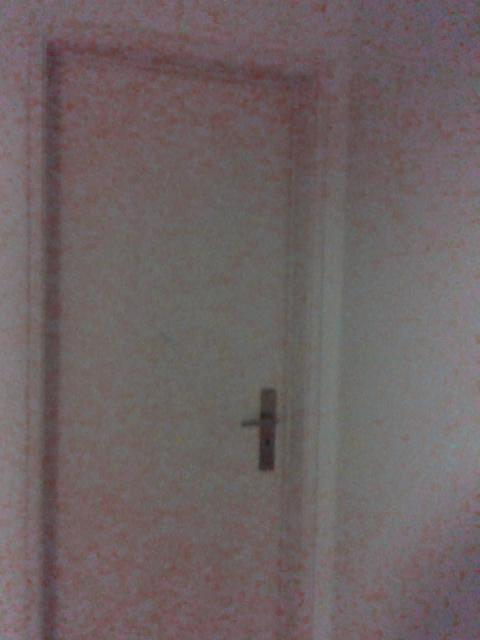closed_door: (19, 31, 326, 639)
